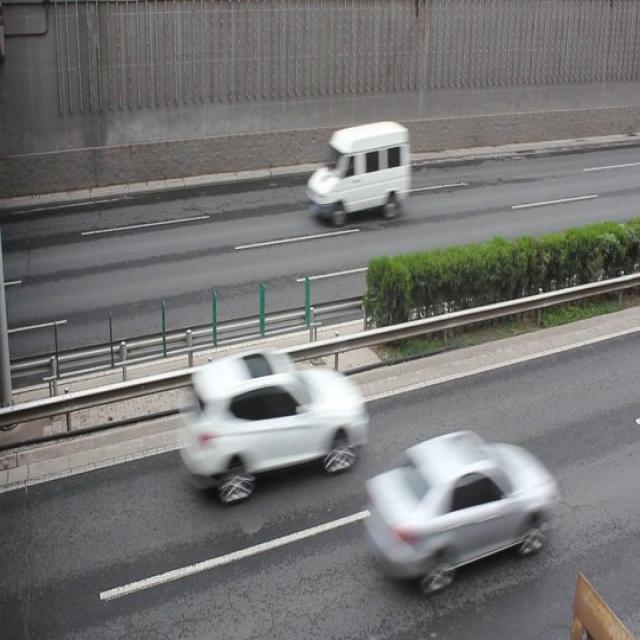car: (366, 426, 552, 589), (181, 349, 365, 502)
truck: (305, 122, 408, 225)
